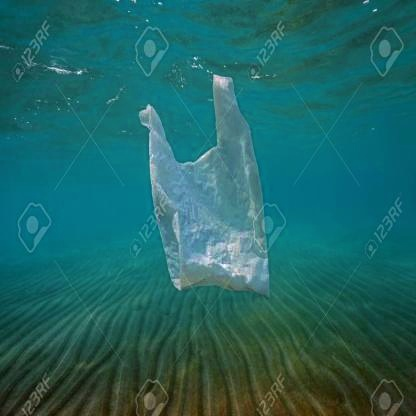pbag: (138, 74, 270, 302)
